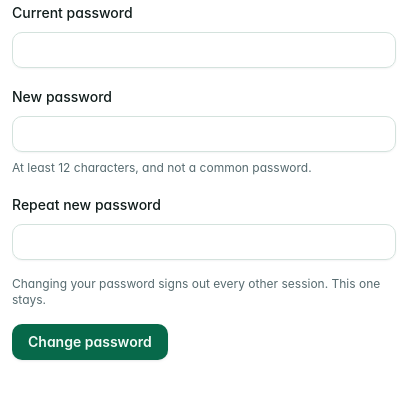
server errors › puts a wrong current password on its own field
The image size is (417, 402).
Type "wrong passphrase" into the password field labelled "Current password" at (204, 50), box [12,32,396,68]
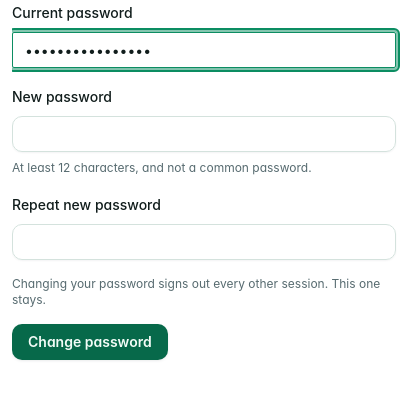
Type "a much better passphrase" into the password field labelled "New password" at (204, 134), box [12,116,396,152]
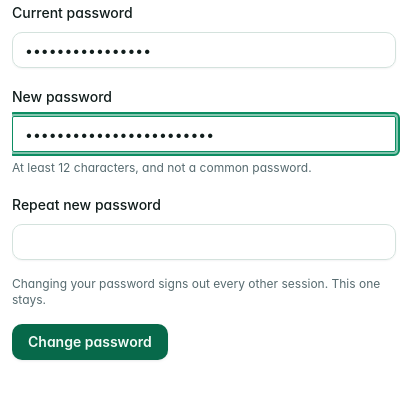
Type "a much better passphrase" into the password field labelled "Repeat new password" at (204, 242), box [12,224,396,260]
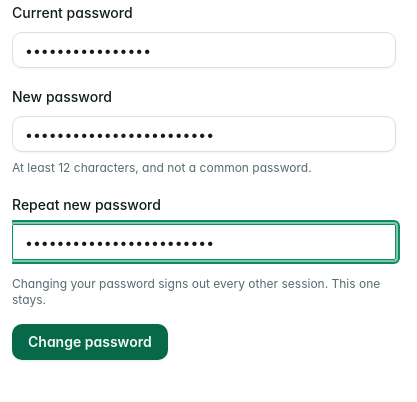
Click the button "Change password" at (90, 342), box [12,324,168,360]
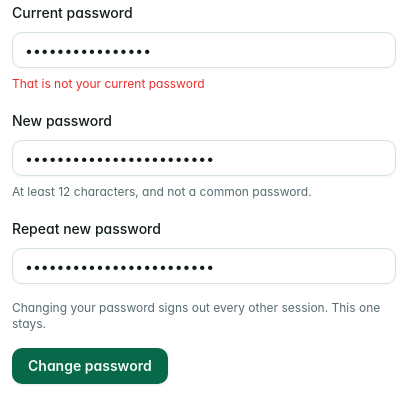
Expected: the text "That is not your current password" is shown, [12,76,205,91]
